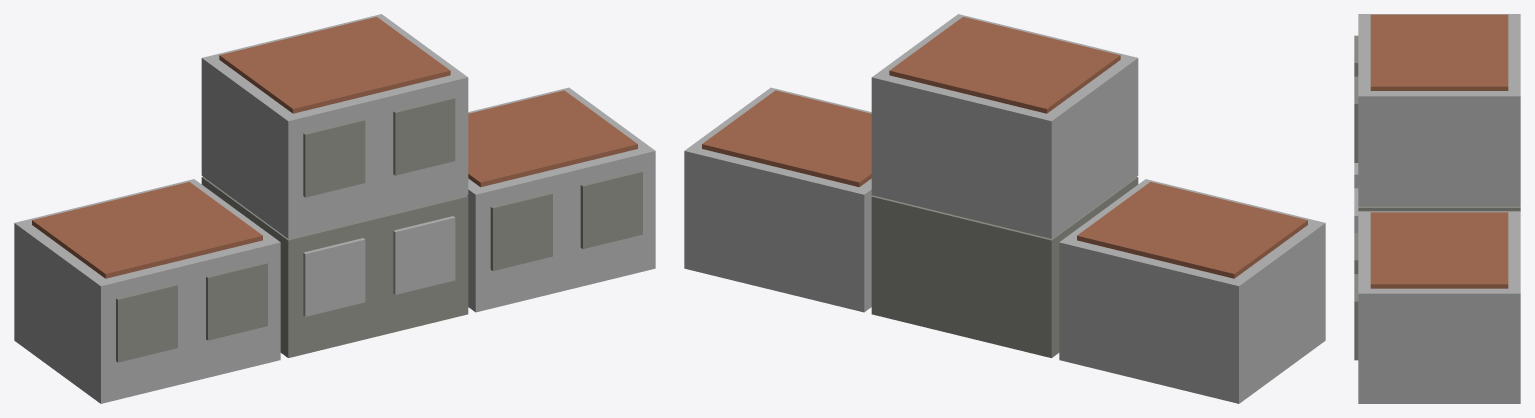
File: SM_Palots_v4_ConFruta_LOD0.fbx
3 renders of one model, left to right at view 1: azimuth 30°, elevation 25°; view 2: azimuth 150°, elevation 25°; view 3: azimuth 270°, elevation 25°, orthographic. The views are drawn at different scales.
Parts seen in each view (by area): view 1: SM_viveres_nules_v24_LOD0; view 2: SM_viveres_nules_v24_LOD0; view 3: SM_viveres_nules_v24_LOD0.
Part boxes in pixels (x1,y1,x2,y2): SM_viveres_nules_v24_LOD0: [14, 14, 655, 403]; SM_viveres_nules_v24_LOD0: [684, 14, 1325, 403]; SM_viveres_nules_v24_LOD0: [1354, 14, 1520, 403].
Size of the model in its own units: 3.7 by 1.54 by 1.02.
